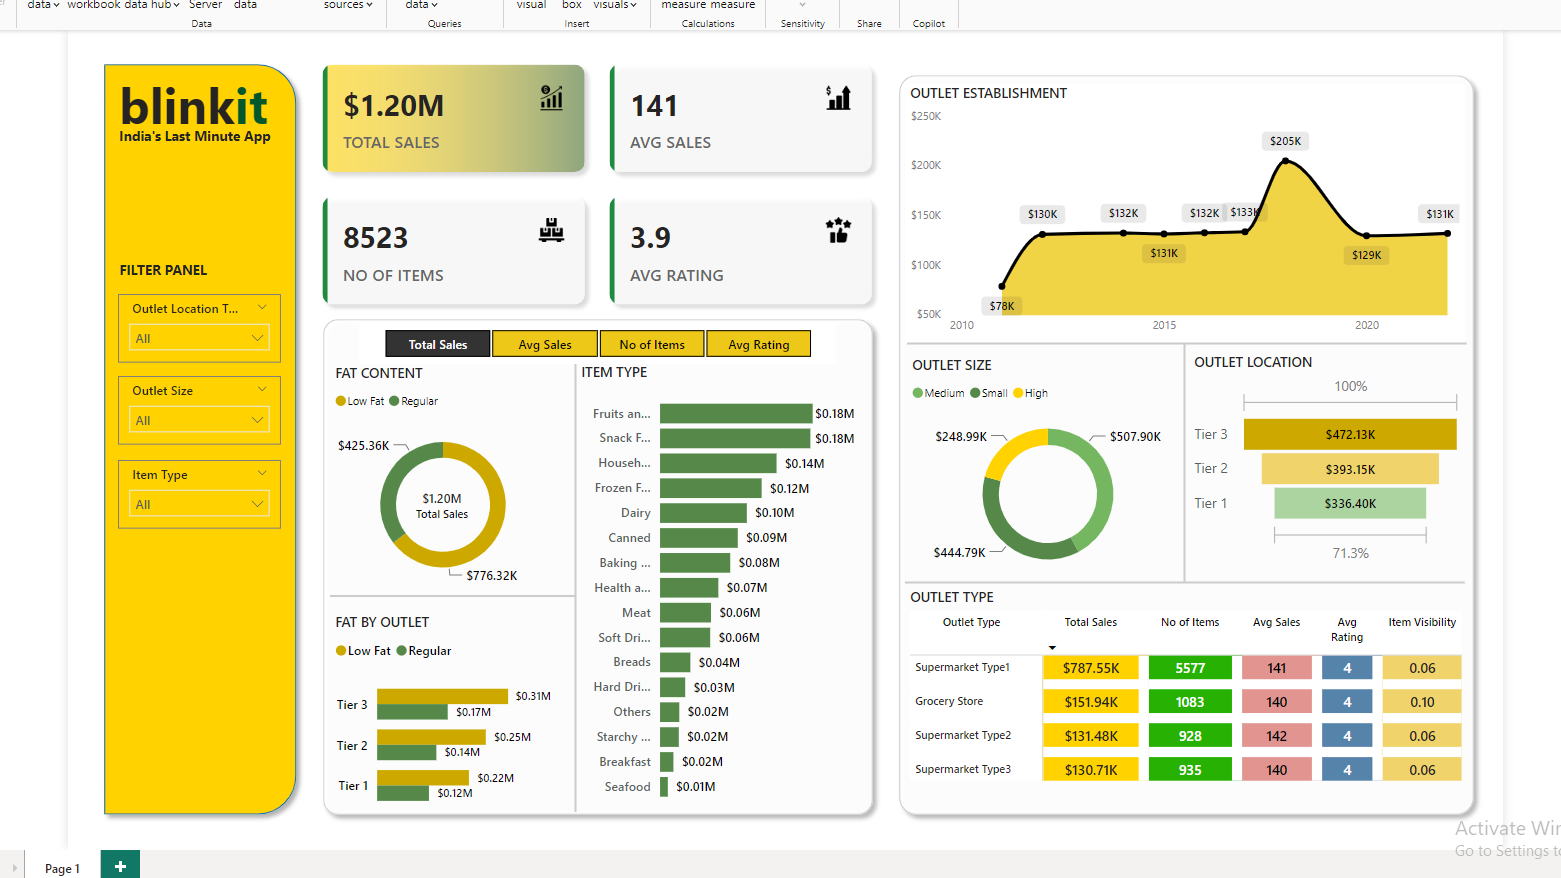

What the dashboard file says about the page in this screenshot:
{"tool":"powerbi","page":{"name":"Page 1","canvas":[1400,800],"ordinal":0},"visuals":[{"type":"shape","box":[26.6,24.5,205.3,750],"z":0},{"type":"textbox","box":[44.7,35.1,176.6,81.9],"z":1000},{"type":"textbox","box":[26.6,89.4,194.7,27.7],"z":2000},{"type":"cardVisual","fields":{"Data":["BlinkIT Grocery Data.Total Sales","BlinkIT Grocery Data.Avg Sales","BlinkIT Grocery Data.No of Items","BlinkIT Grocery Data.Avg Rating"]},"box":[231.2,16.6,570.7,269.3],"z":3000},{"type":"shape","box":[240,273.2,554.1,501.5],"z":4000},{"type":"donutChart","title":"FAT CONTENT","fields":{"Y":["BlinkIT Grocery Data.Total Sales"],"Category":["BlinkIT Grocery Data.Item Fat Content"]},"box":[255.6,325.9,220.5,230.2],"z":5000},{"type":"slicer","fields":{"Values":["Metrics.Metrics"]},"box":[283.9,285.9,465.4,40],"z":6000},{"type":"cardVisual","fields":{"Data":["BlinkIT Grocery Data.Total Sales"]},"box":[303.4,429.3,123.9,68.3],"z":7000},{"type":"clusteredBarChart","title":"FAT BY OUTLET","fields":{"Y":["BlinkIT Grocery Data.Total Sales"],"Category":["BlinkIT Grocery Data.Outlet Location Type"],"Series":["BlinkIT Grocery Data.Item Fat Content"]},"box":[255.6,568.8,220.5,205.9],"z":8000},{"type":"shape","box":[255.6,548.3,240,7.8],"z":9000},{"type":"shape","box":[486.8,325.9,16.6,437.1],"z":10000},{"type":"barChart","title":"ITEM TYPE","fields":{"Y":["BlinkIT Grocery Data.Total Sales"],"Category":["BlinkIT Grocery Data.Item Type"]},"box":[495.6,324.9,277.1,438],"z":11000},{"type":"shape","box":[802,35.1,578.5,739.5],"z":12000},{"type":"lineChart","title":"OUTLET ESTABLISHMENT","fields":{"Category":["BlinkIT Grocery Data.Outlet Establishment Year"],"Y":["BlinkIT Grocery Data.Total Sales"]},"box":[816.6,52.7,546.3,253.7],"z":13000},{"type":"shape","box":[818.5,296.6,546.3,18.5],"z":14000},{"type":"donutChart","title":"OUTLET SIZE","fields":{"Y":["BlinkIT Grocery Data.Total Sales"],"Category":["BlinkIT Grocery Data.Outlet Size"]},"box":[818.5,318,275,225],"z":15000},{"type":"shape","box":[1084.9,306.3,8.8,233.2],"z":16000},{"type":"funnel","title":"OUTLET LOCATION","fields":{"Y":["BlinkIT Grocery Data.Total Sales"],"Category":["BlinkIT Grocery Data.Outlet Location Type"]},"box":[1093.7,315.1,271.2,208.8],"z":17000},{"type":"shape","box":[816.6,529.8,546.3,18.5],"z":18000},{"type":"pivotTable","title":"OUTLET TYPE","fields":{"Rows":["BlinkIT Grocery Data.Outlet Type"],"Values":["BlinkIT Grocery Data.Total Sales","BlinkIT Grocery Data.No of Items","BlinkIT Grocery Data.Avg Sales","BlinkIT Grocery Data.Avg Rating","Avg(BlinkIT Grocery Data.Item Visibility)"]},"box":[816.6,544.4,548.3,206.8],"z":19000},{"type":"slicer","fields":{"Values":["BlinkIT Grocery Data.Outlet Location Type"]},"box":[48.8,257.6,159,67.3],"z":20000},{"type":"slicer","fields":{"Values":["BlinkIT Grocery Data.Outlet Size"]},"box":[48.8,337.6,159,67.3],"z":21000},{"type":"slicer","fields":{"Values":["BlinkIT Grocery Data.Item Type"]},"box":[48.8,419.5,159,67.3],"z":22000},{"type":"textbox","box":[44.9,220.5,138.5,30.2],"z":22001}]}

Visuals, with their boxes on the page's 1400x800 design canvas (x1, y1, x2, y2). These are canvas units, not pixel positions in the 1561x878 screenshot, which may show the page scaled, cropped or inside an application window:
shape: (27,24,232,774)
textbox: (45,35,221,117)
textbox: (27,89,221,117)
cardVisual - BlinkIT Grocery Data.Total Sales x BlinkIT Grocery Data.Avg Sales: (231,17,802,286)
shape: (240,273,794,775)
"FAT CONTENT" donutChart: (256,326,476,556)
slicer - Metrics.Metrics: (284,286,749,326)
cardVisual - BlinkIT Grocery Data.Total Sales: (303,429,427,498)
"FAT BY OUTLET" clusteredBarChart: (256,569,476,775)
shape: (256,548,496,556)
shape: (487,326,503,763)
"ITEM TYPE" barChart: (496,325,773,763)
shape: (802,35,1380,775)
"OUTLET ESTABLISHMENT" lineChart: (817,53,1363,306)
shape: (818,297,1365,315)
"OUTLET SIZE" donutChart: (818,318,1094,543)
shape: (1085,306,1094,540)
"OUTLET LOCATION" funnel: (1094,315,1365,524)
shape: (817,530,1363,548)
"OUTLET TYPE" pivotTable: (817,544,1365,751)
slicer - BlinkIT Grocery Data.Outlet Location Type: (49,258,208,325)
slicer - BlinkIT Grocery Data.Outlet Size: (49,338,208,405)
slicer - BlinkIT Grocery Data.Item Type: (49,420,208,487)
textbox: (45,220,183,251)
